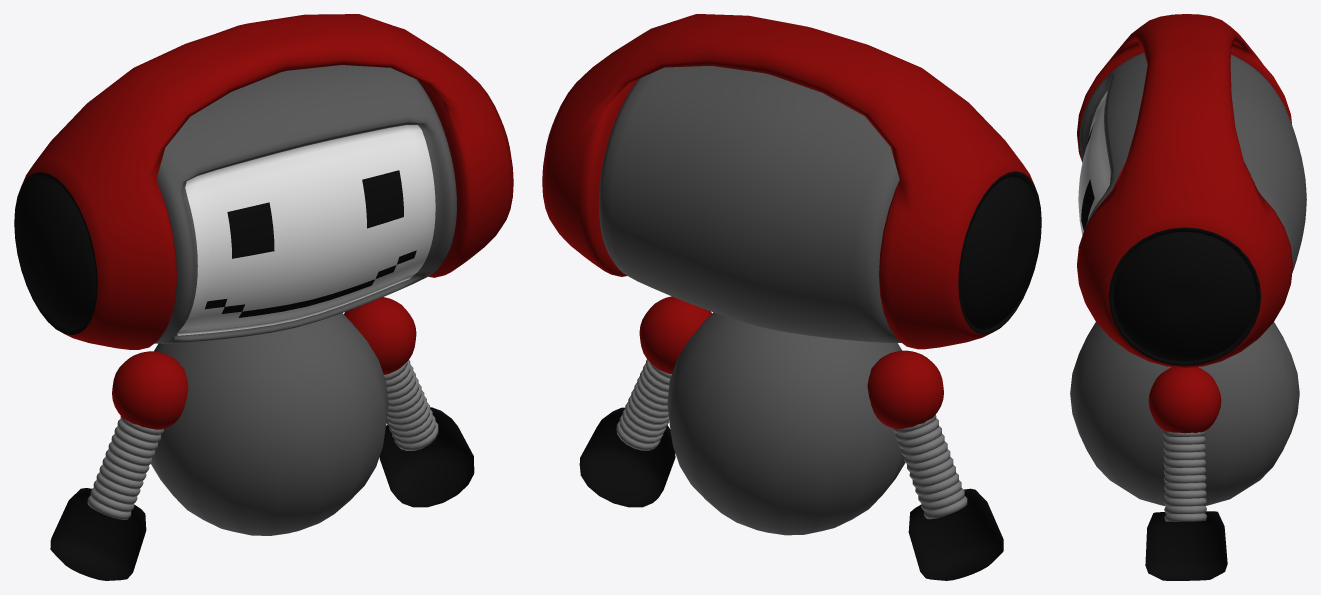
Rendered from jorbot_model_test.fbx.
The picture shows the model from 3 angles, left to right: view 1: azimuth 30°, elevation 25°; view 2: azimuth 150°, elevation 25°; view 3: azimuth 270°, elevation 25°; orthographic projection. The views are drawn at different scales.
Visible parts, largest first — view 1: Circle.004, Sphere, Circle.001, Sphere.001; view 2: Circle.004, Sphere, Circle.001, Sphere.001; view 3: Circle.004, Sphere, Circle.001, Sphere.001.
Boxes of the visible parts, left/top/right/bottom form: Circle.004: left=14, top=14, right=513, bottom=349; Sphere: left=150, top=313, right=388, bottom=535; Circle.001: left=50, top=360, right=474, bottom=580; Sphere.001: left=112, top=297, right=416, bottom=429; Circle.004: left=542, top=14, right=1041, bottom=349; Sphere: left=667, top=312, right=905, bottom=535; Circle.001: left=579, top=359, right=1003, bottom=580; Sphere.001: left=639, top=296, right=943, bottom=429; Circle.004: left=1077, top=14, right=1306, bottom=367; Sphere: left=1070, top=322, right=1299, bottom=506; Circle.001: left=1145, top=430, right=1227, bottom=580; Sphere.001: left=1148, top=367, right=1221, bottom=433.
Size of the model in its own units: 431 by 453 by 212.
